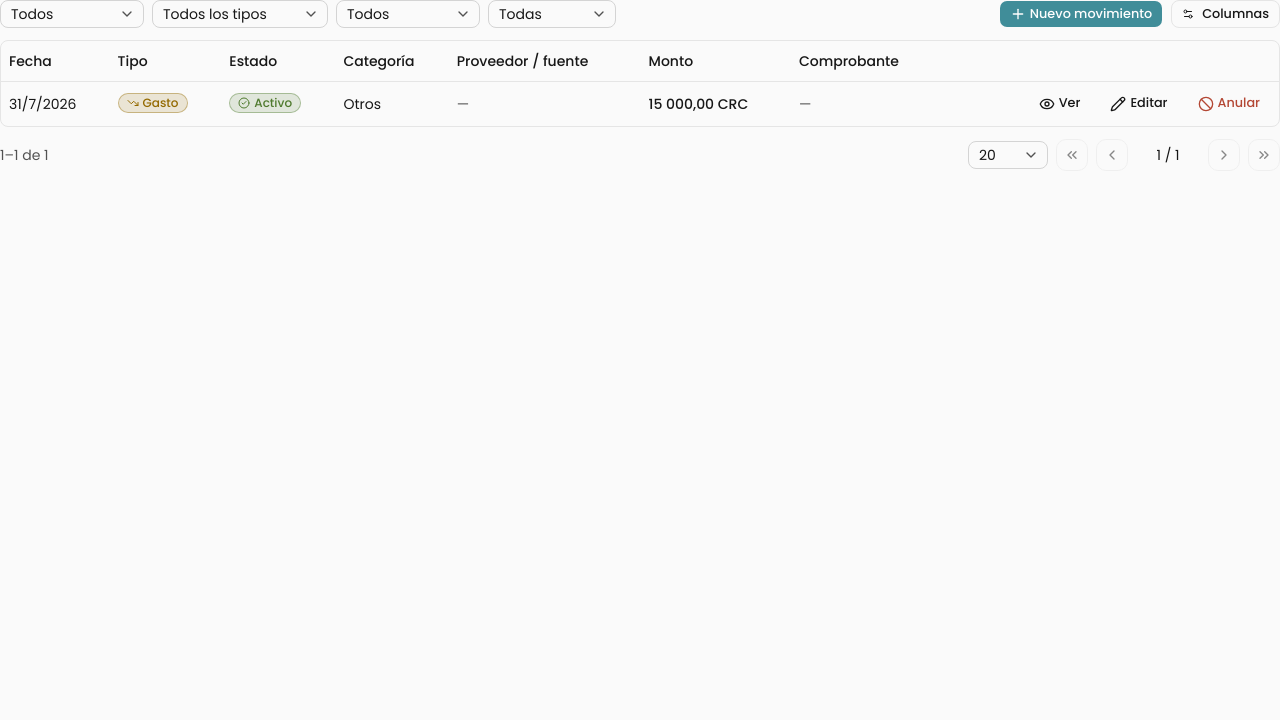
Test: FinanceEntriesTable — el click en la fila abre el detalle, no la edición › un movimiento sin proveedor ni nota no inventa datos
The width and height of the screenshot is (1280, 720).
Click the text "Otros" at (43, 104), box [1,81,1279,126]
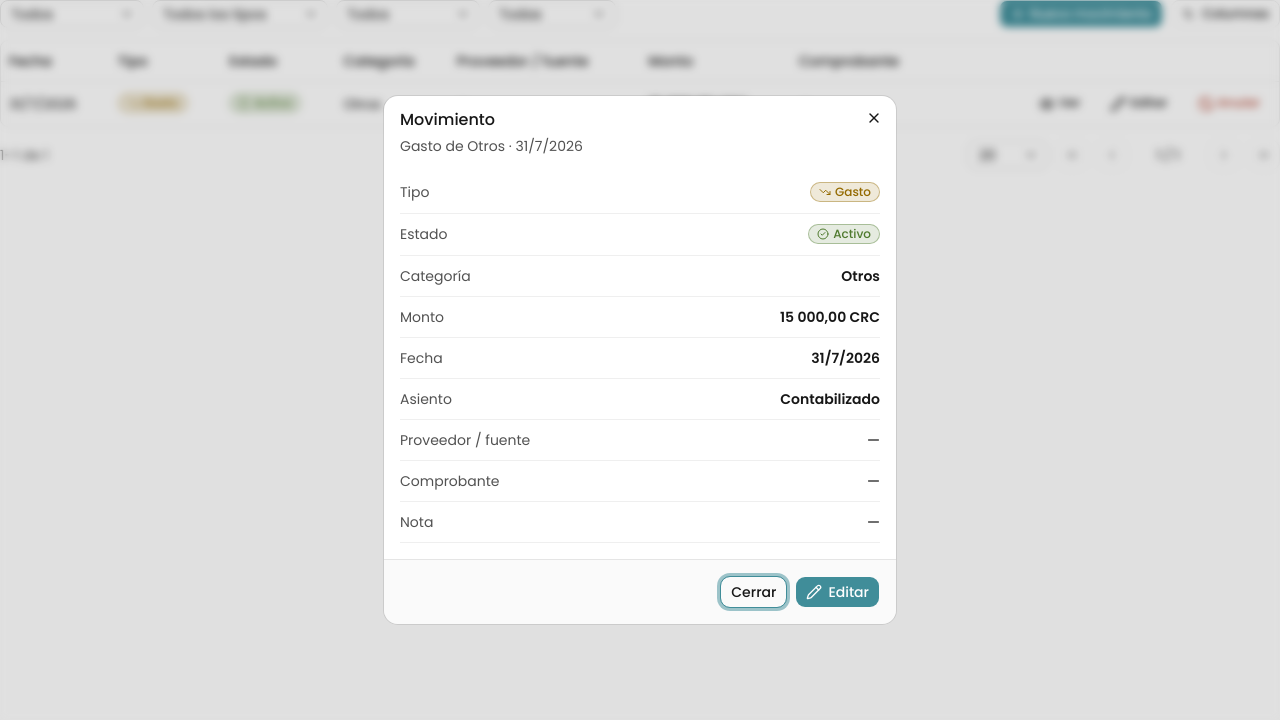
Expected: the dialog is shown, [384,96,896,624]
Expected: the heading "Movimiento" is shown, [400,108,495,131]
